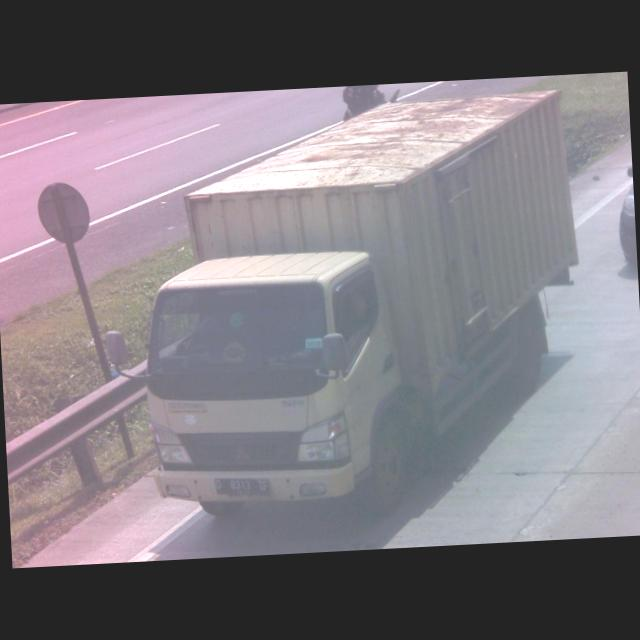plate: (210, 474, 272, 501)
